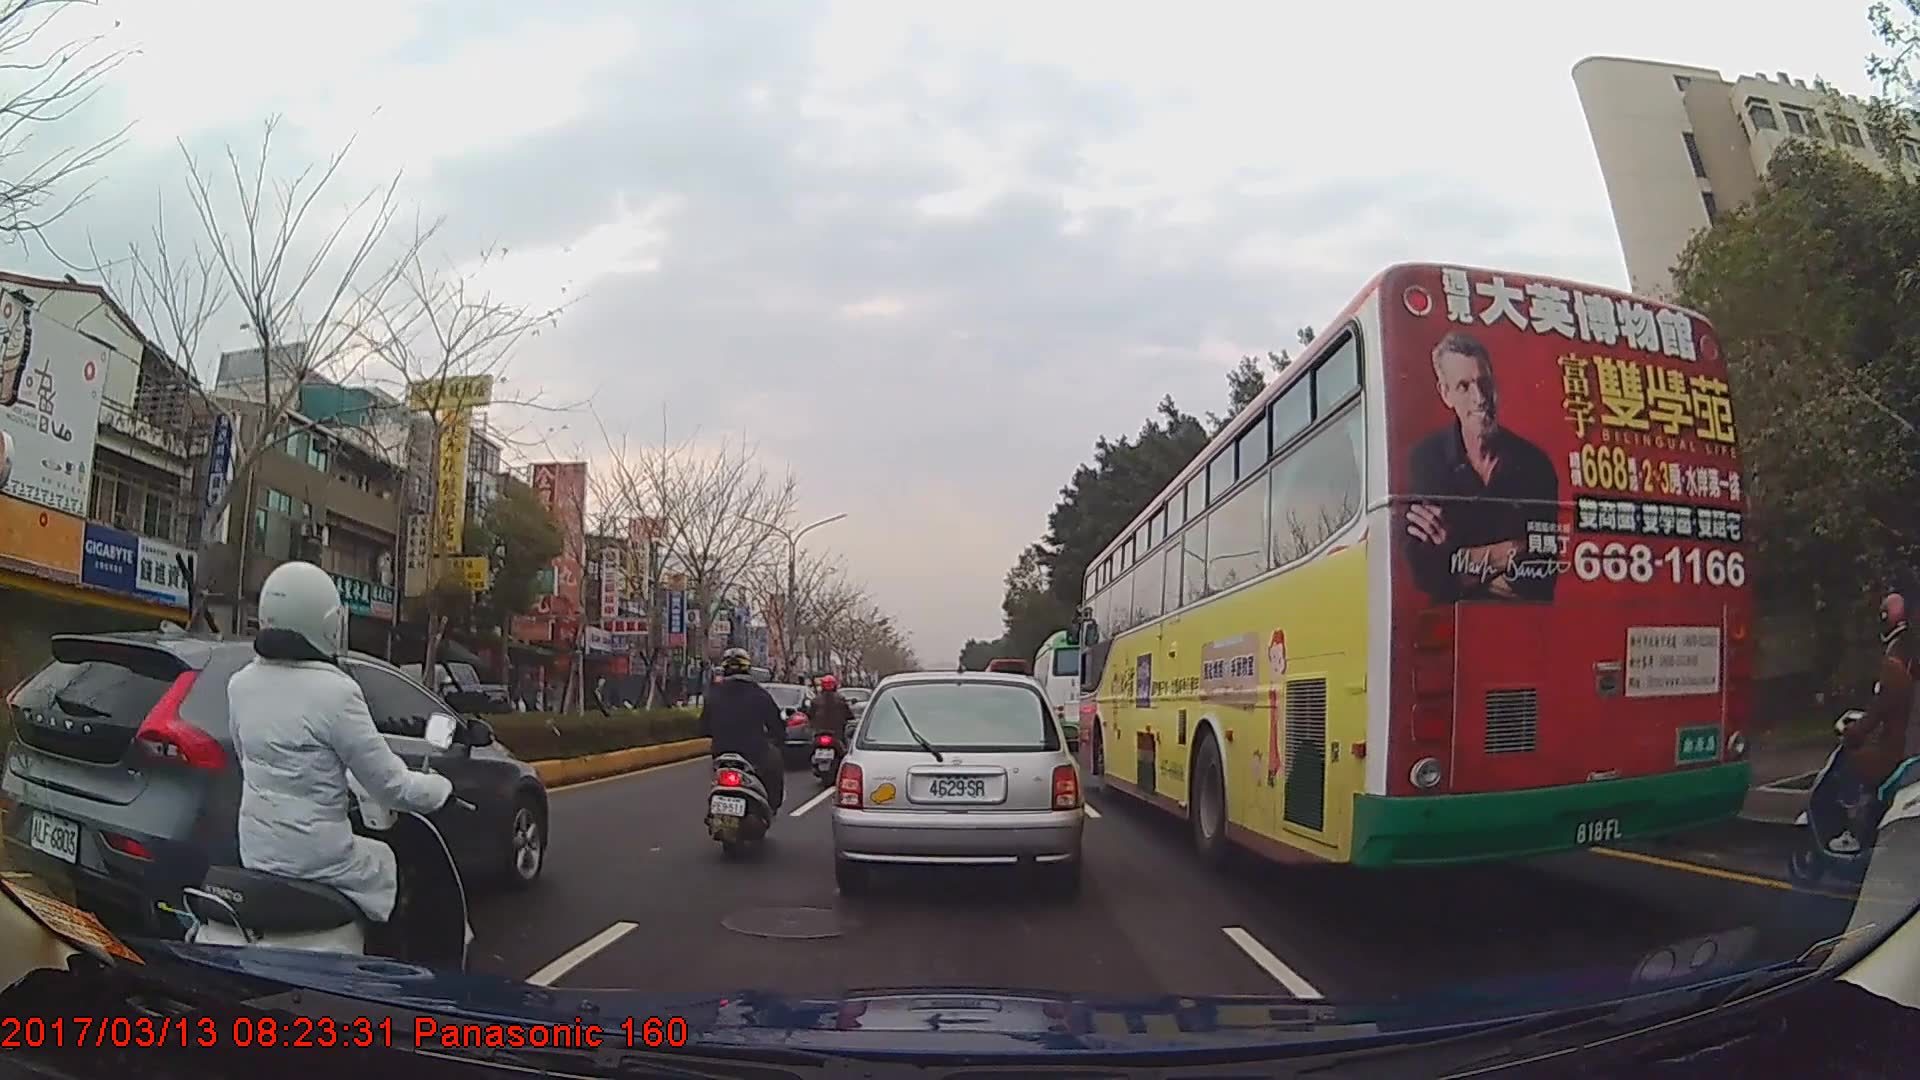rider: (180, 557, 479, 1018), (1786, 594, 1920, 885), (697, 648, 788, 859), (805, 677, 855, 789)
vehicle: (1080, 258, 1752, 876), (0, 626, 548, 932), (832, 670, 1082, 890), (374, 660, 511, 739), (1030, 630, 1116, 750), (725, 683, 836, 768)
